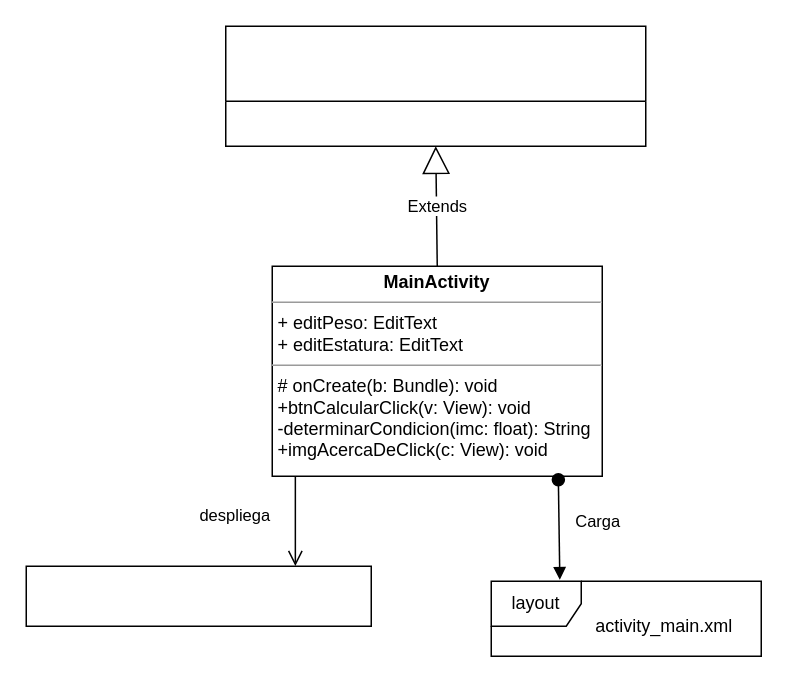
This 788x683 diagram has some shape labels left out. The shapes that lost their labels are listed below. From the top down, each one's box as (x1, y1, x2, y2) in pixels, then its label:
(224, 25, 646, 146): androidx.appcompat.app.AppCompatActivity
(25, 565, 371, 626): androidx.appcompat.app.AlertDialog
